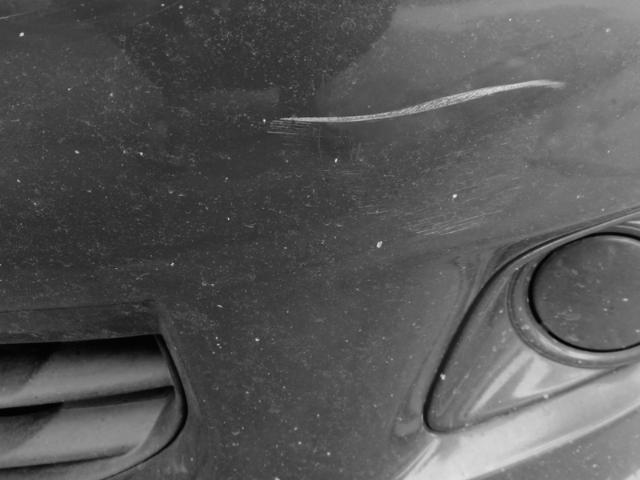Bumper: (237, 58, 583, 211)
